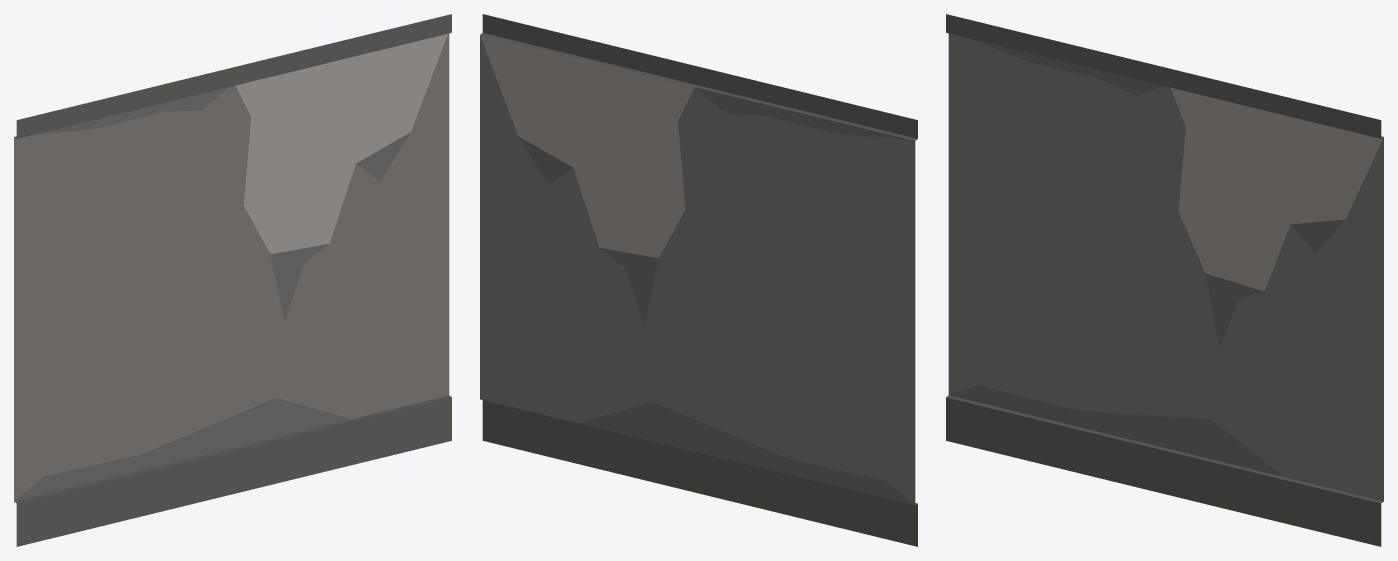
The model's file is AI_Env_Wall_Grey_TornWallpaper_01.fbx.
The picture shows the model from 3 angles, left to right: view 1: azimuth 30°, elevation 25°; view 2: azimuth 150°, elevation 25°; view 3: azimuth 330°, elevation 25°; orthographic projection.
Visible parts, largest first — view 1: AI_Env_Wall_TornWallpaper_01; view 2: AI_Env_Wall_TornWallpaper_01; view 3: AI_Env_Wall_TornWallpaper_01.
Boxes of the visible parts, x1,y1,x2,y2 form: AI_Env_Wall_TornWallpaper_01: (14,14,451,546); AI_Env_Wall_TornWallpaper_01: (480,14,917,546); AI_Env_Wall_TornWallpaper_01: (946,14,1383,546).
Bounding box in the file's own units: 5 × 4.69 × 0.0549.
